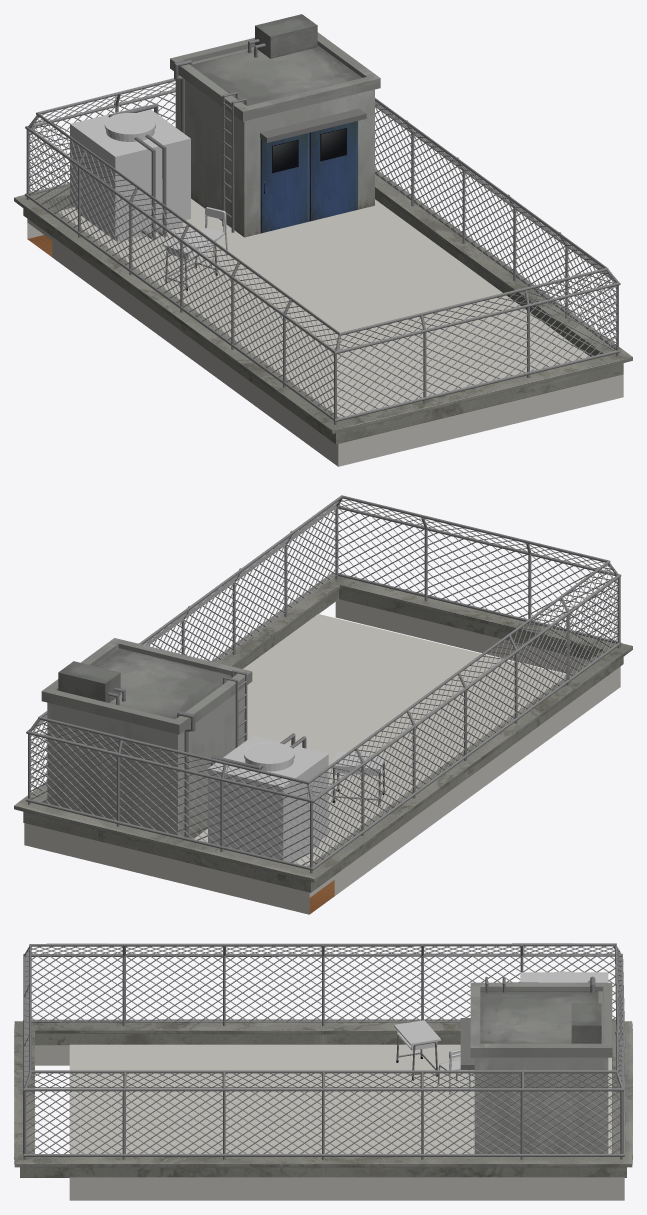
Rendered from deck04.fbx.
3 renders of one model, top to bottom at view 1: azimuth 30°, elevation 25°; view 2: azimuth 150°, elevation 25°; view 3: azimuth 270°, elevation 25°, orthographic. The views are drawn at different scales.
Visible parts, largest first — view 1: Cube.008, Cube.005, Cube.009, Cube.006, Plane.034, Plane.038, Plane, Plane.014, Plane.013, Plane.015, Plane.003, Plane.002 (+16 smaller); view 2: Cube.008, Cube.005, Cube.009, Cube.006, Plane.034, Plane.038, Plane, Plane.014, Plane.017, Plane.013, Plane.018, Plane.016 (+14 smaller); view 3: Cube.008, Cube.009, Cube.005, Plane.034, Plane, Plane.038, Plane.007, Plane.009, Plane.008, Plane.006, Plane.001, Plane.011 (+23 smaller).
Boxes of the visible parts, x1,y1,x2,y2 form: Cube.008: [27, 198, 623, 466]; Cube.005: [170, 14, 380, 237]; Cube.009: [14, 168, 632, 444]; Cube.006: [70, 105, 190, 241]; Plane.034: [36, 78, 608, 335]; Plane.038: [24, 171, 620, 421]; Plane: [25, 89, 620, 354]; Plane.014: [426, 308, 527, 396]; Plane.013: [529, 286, 616, 371]; Plane.015: [337, 333, 424, 418]; Plane.003: [413, 135, 462, 237]; Plane.002: [464, 172, 513, 274]; Cube.008: [24, 599, 620, 914]; Cube.005: [41, 638, 252, 838]; Cube.009: [14, 573, 632, 892]; Cube.006: [208, 735, 328, 862]; Plane.034: [38, 495, 610, 784]; Plane.038: [25, 573, 621, 870]; Plane: [26, 505, 621, 802]; Plane.014: [427, 530, 528, 619]; Plane.017: [119, 757, 220, 845]; Plane.013: [338, 508, 424, 594]; Plane.018: [223, 782, 309, 866]; Plane.016: [30, 735, 116, 820]; Cube.008: [35, 1044, 624, 1200]; Cube.009: [14, 1021, 632, 1177]; Cube.005: [470, 982, 612, 1153]; Plane.034: [29, 943, 619, 1073]; Plane: [23, 953, 625, 1091]; Plane.038: [23, 1019, 625, 1156]; Plane.007: [125, 956, 223, 1021]; Plane.009: [324, 955, 421, 1021]; Plane.008: [225, 956, 321, 1021]; Plane.006: [31, 956, 122, 1021]; Plane.001: [125, 1091, 223, 1153]; Plane.011: [26, 1091, 122, 1153].
Size of the model in its own units: 15616 by 8394 by 28631.
